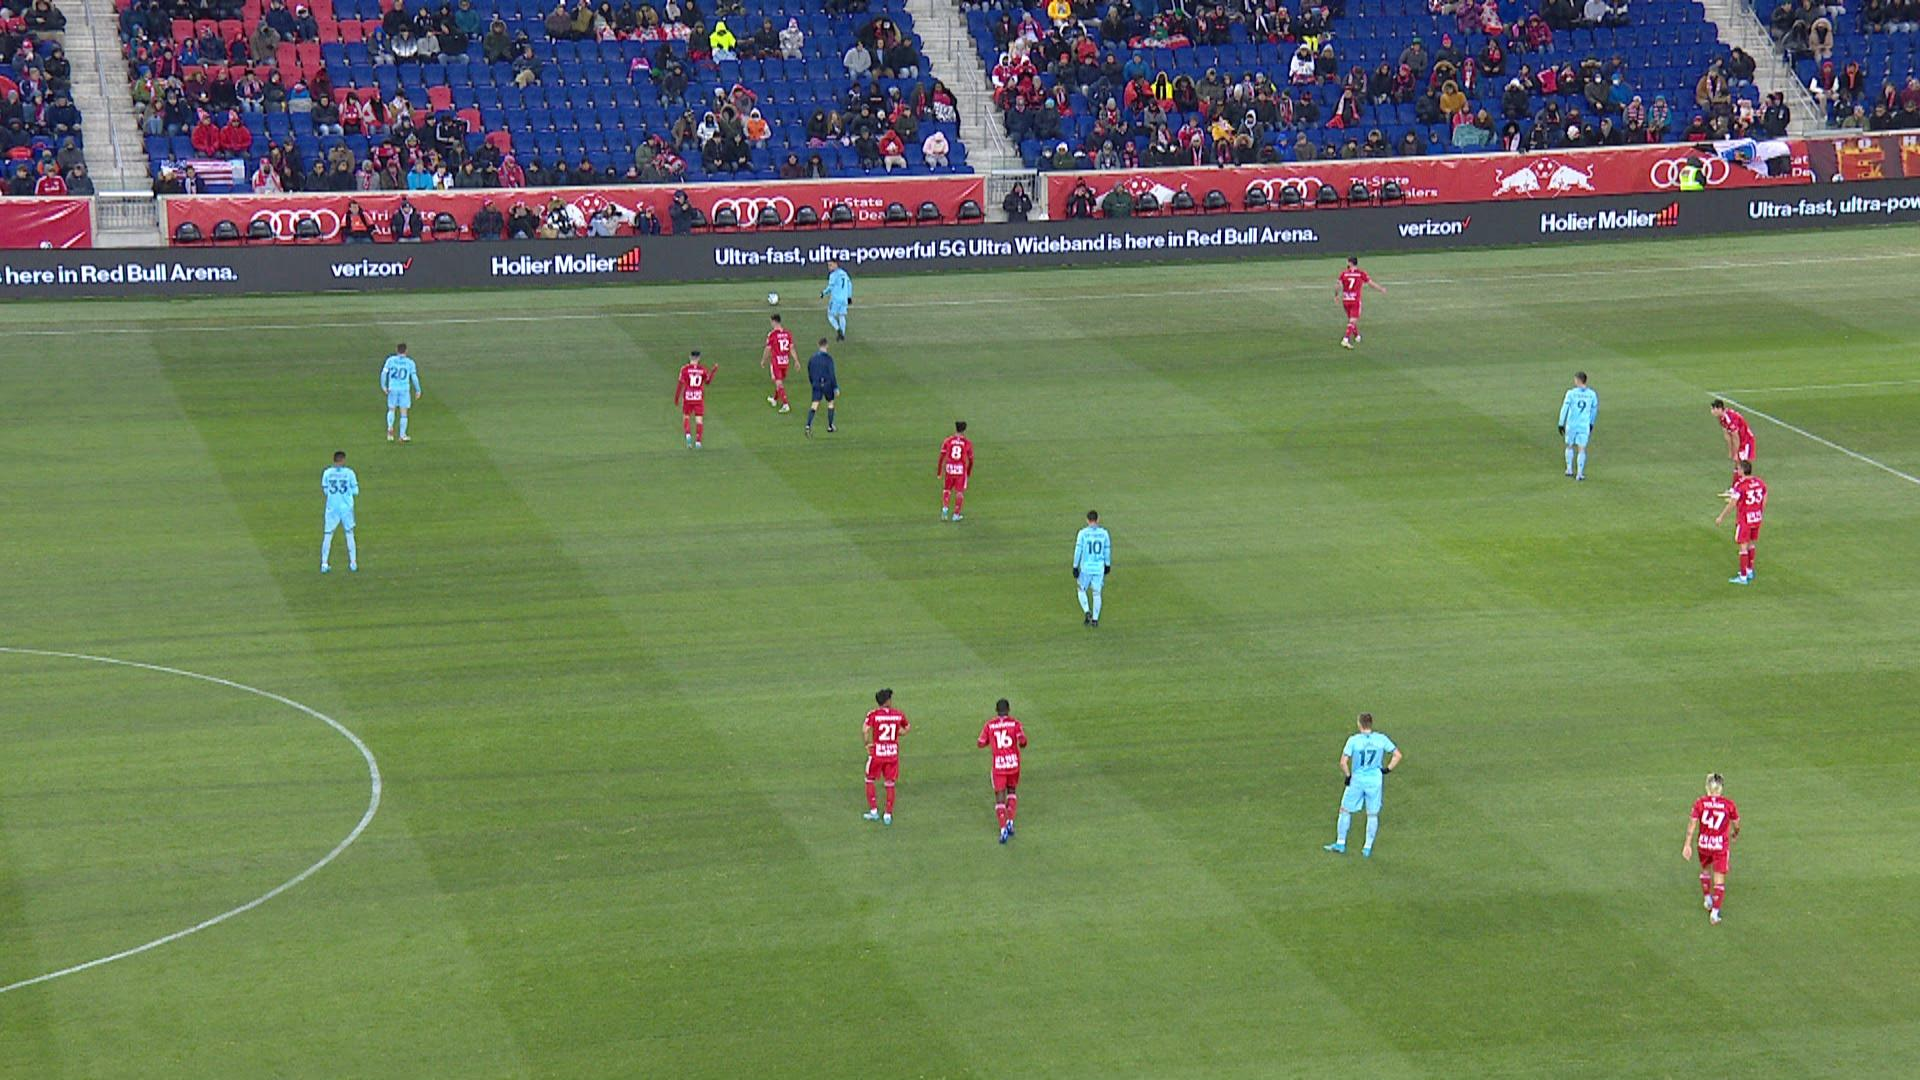football: (767, 291, 779, 305)
